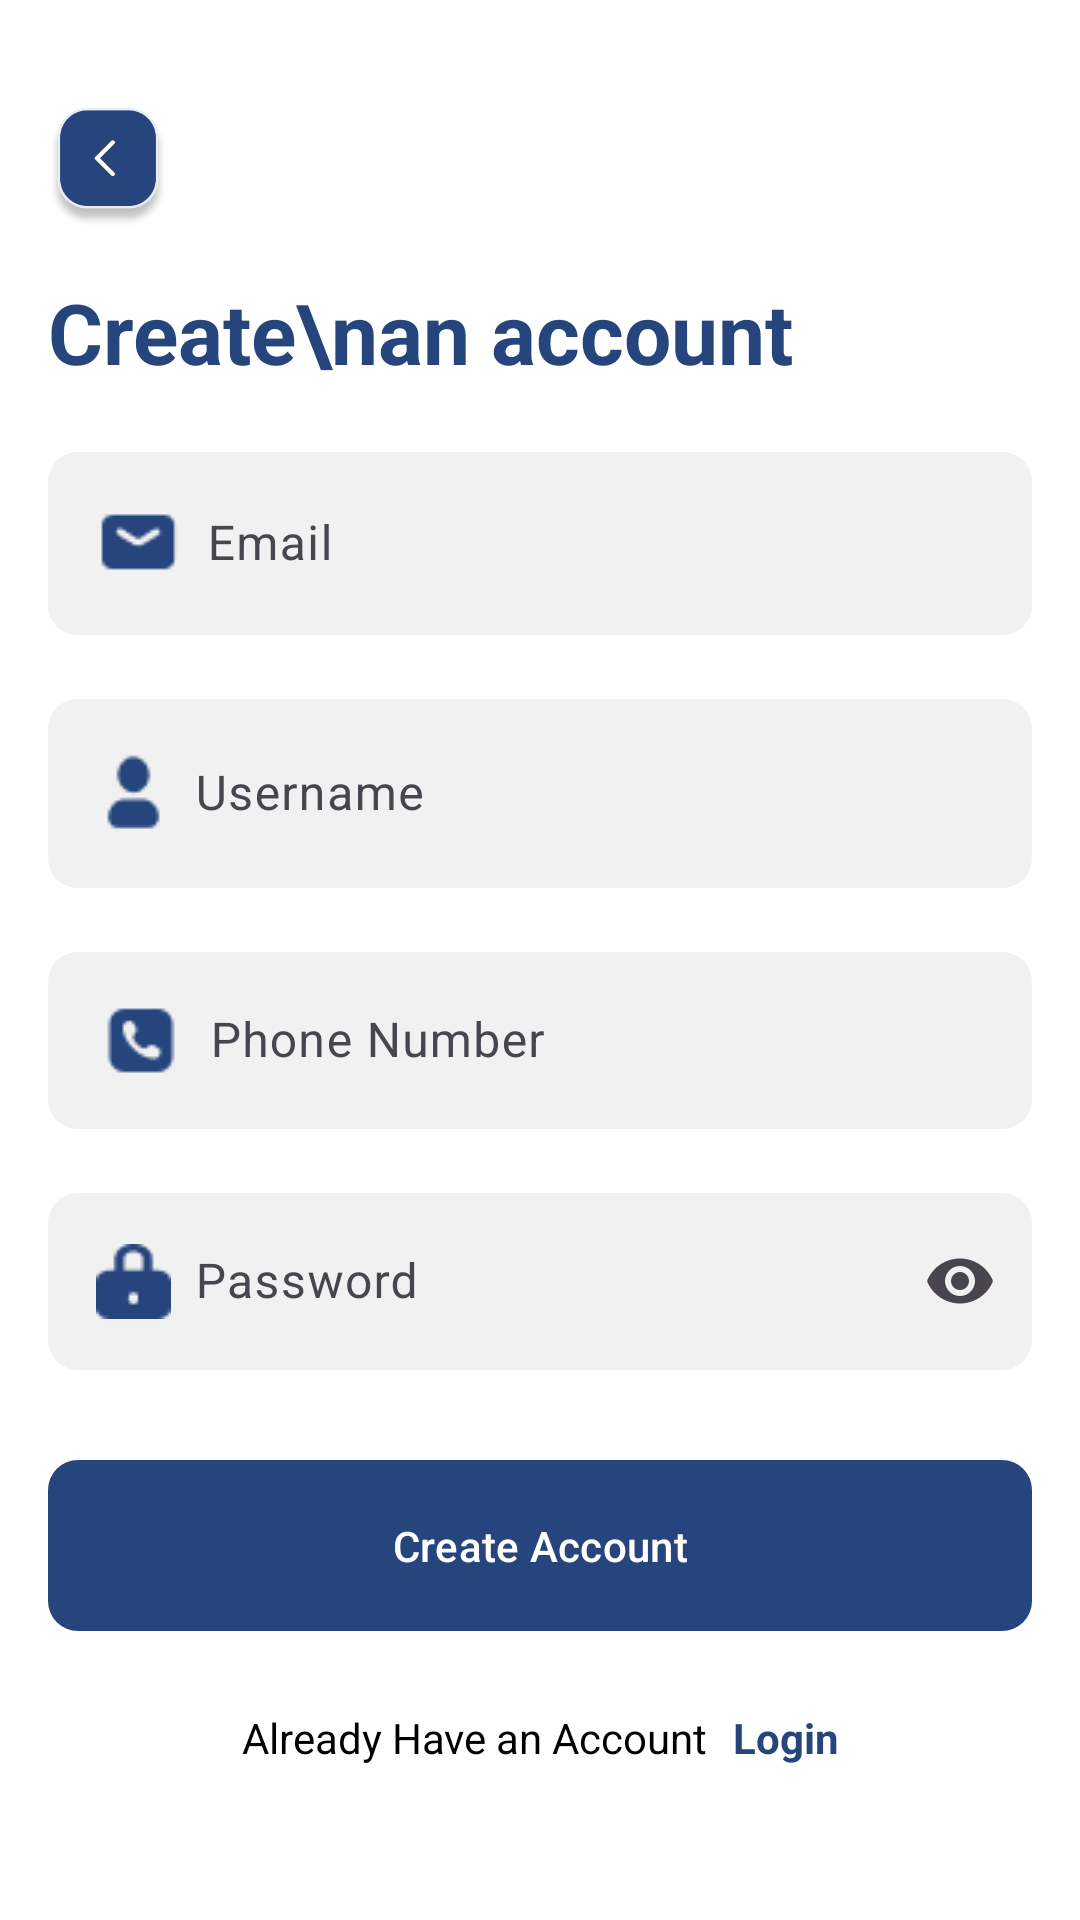

Icon bounding boxes for this 1080px x 1920px phone screenshot, format (x1, y1, x2, y2):
Back: (56, 110, 160, 220)
